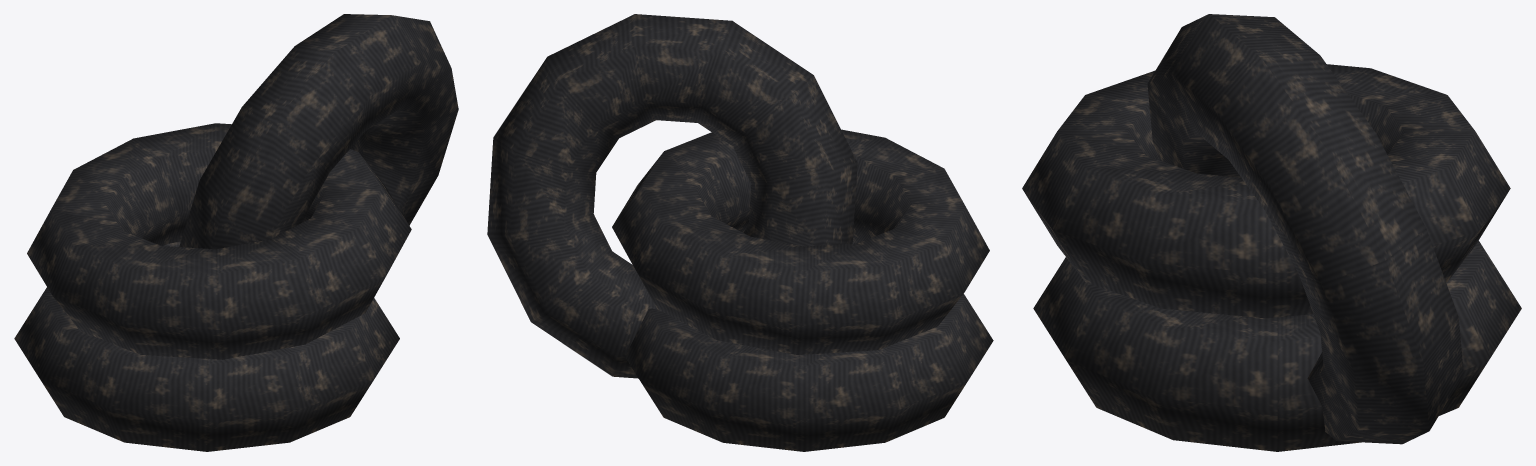
File: map_tire_stack.glb
3 renders of one model, left to right at view 1: azimuth 30°, elevation 25°; view 2: azimuth 150°, elevation 25°; view 3: azimuth 270°, elevation 25°, orthographic. The views are drawn at different scales.
Visible parts, largest first — view 1: tire_stack_root; view 2: tire_stack_root; view 3: tire_stack_root.
Boxes of the visible parts, x1,y1,x2,y2 form: tire_stack_root: (14,14,458,451); tire_stack_root: (487,14,993,451); tire_stack_root: (1022,14,1521,451).
Size of the model in its own units: 1.15 by 0.8159 by 0.89.
Materials: 1 (1 with a texture image).
